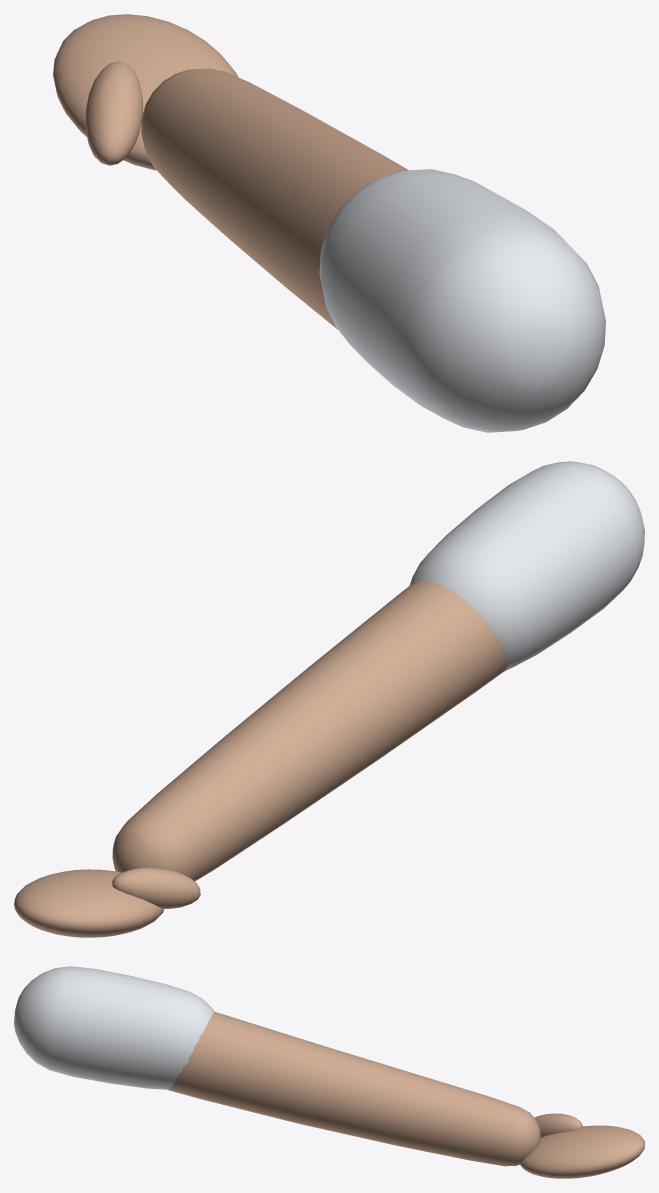
Rendered from cang_tay_trai.glb.
The picture shows the model from 3 angles, top to bottom: view 1: azimuth 30°, elevation 25°; view 2: azimuth 150°, elevation 25°; view 3: azimuth 270°, elevation 25°; orthographic projection. The views are drawn at different scales.
Parts seen in each view (by area): view 1: cang_tay_trai; view 2: cang_tay_trai; view 3: cang_tay_trai.
Part boxes in pixels (box(x1,y1,x2,y2)): cang_tay_trai: box(53, 14, 605, 432); cang_tay_trai: box(14, 461, 644, 937); cang_tay_trai: box(14, 966, 644, 1178).
Bounding box in the file's own units: 0.1714 × 0.1546 × 0.5505.
